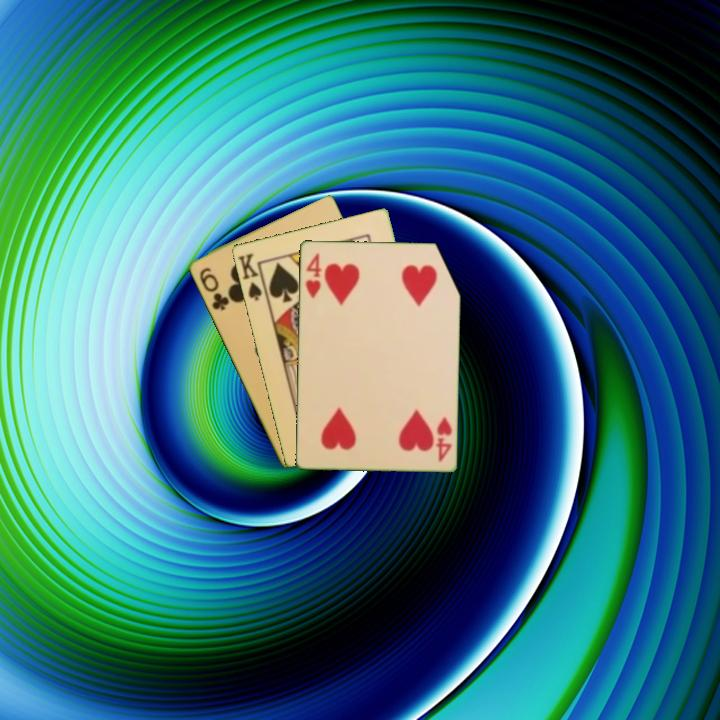4h: (302, 249, 324, 301), (432, 413, 454, 464)
6c: (195, 264, 232, 313)
Ks: (234, 249, 264, 303)
